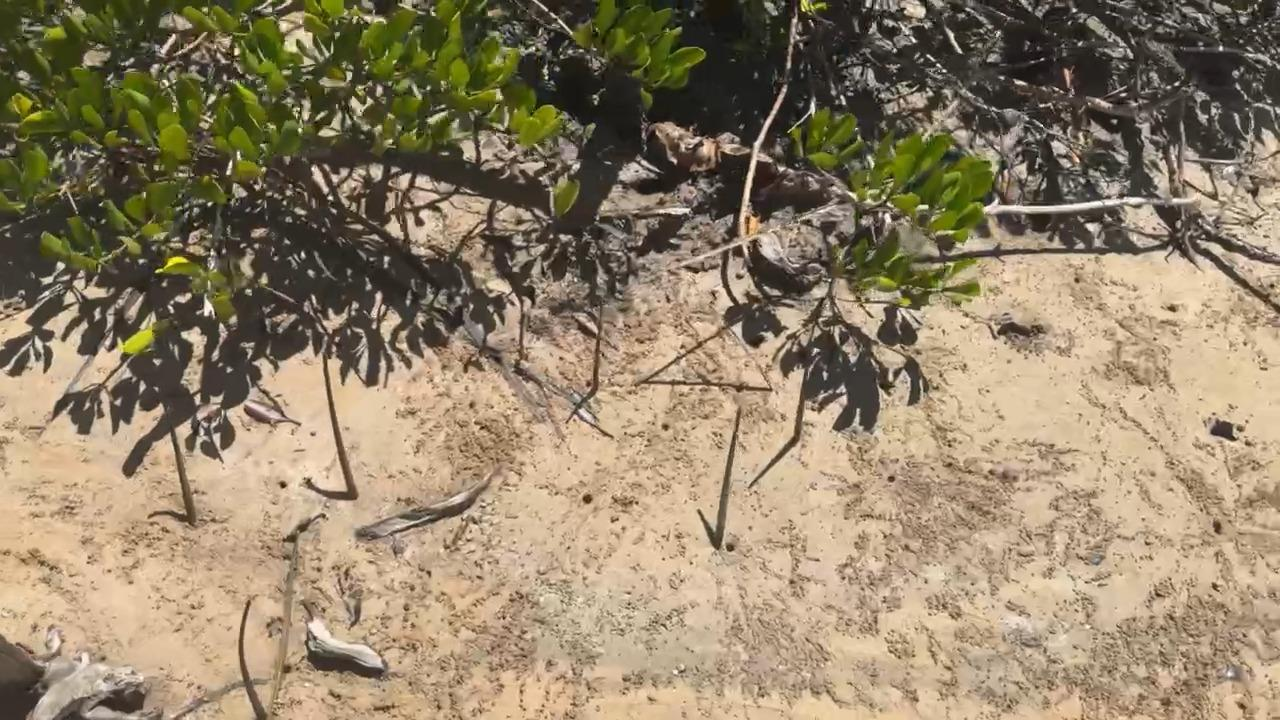Tree: (321, 353, 359, 500), (713, 311, 774, 392), (713, 405, 743, 551), (163, 412, 199, 526), (238, 599, 270, 720), (590, 314, 604, 394), (793, 387, 804, 442), (519, 301, 527, 361)
